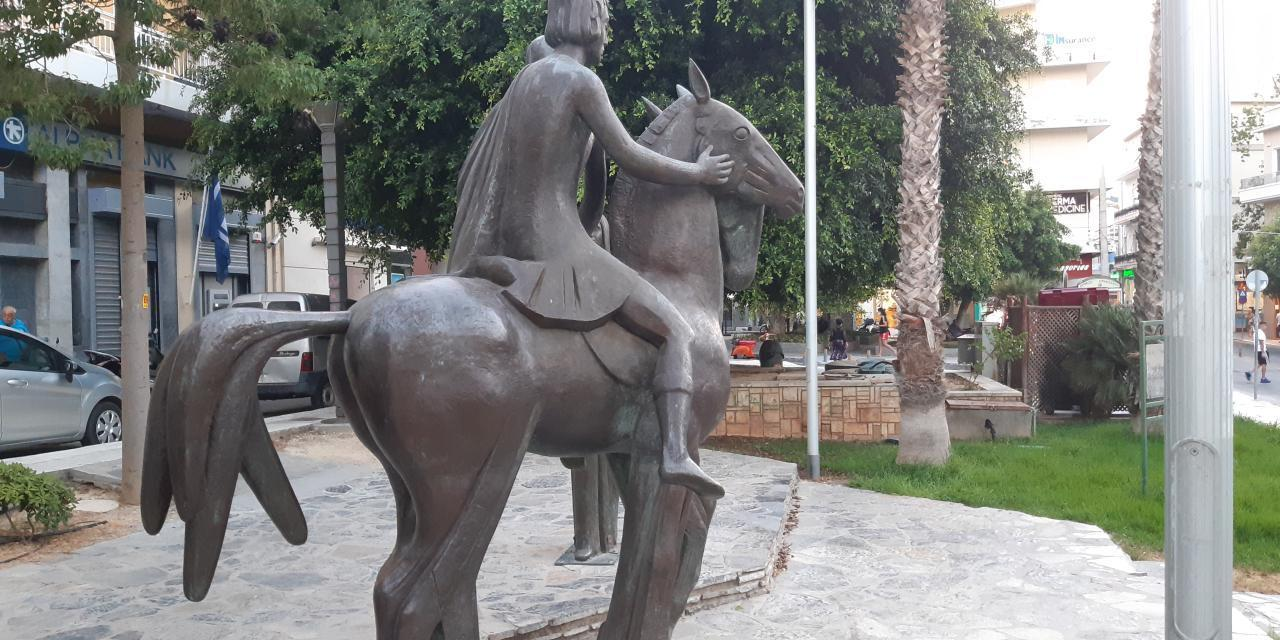Aretousa: (139, 1, 809, 640)
